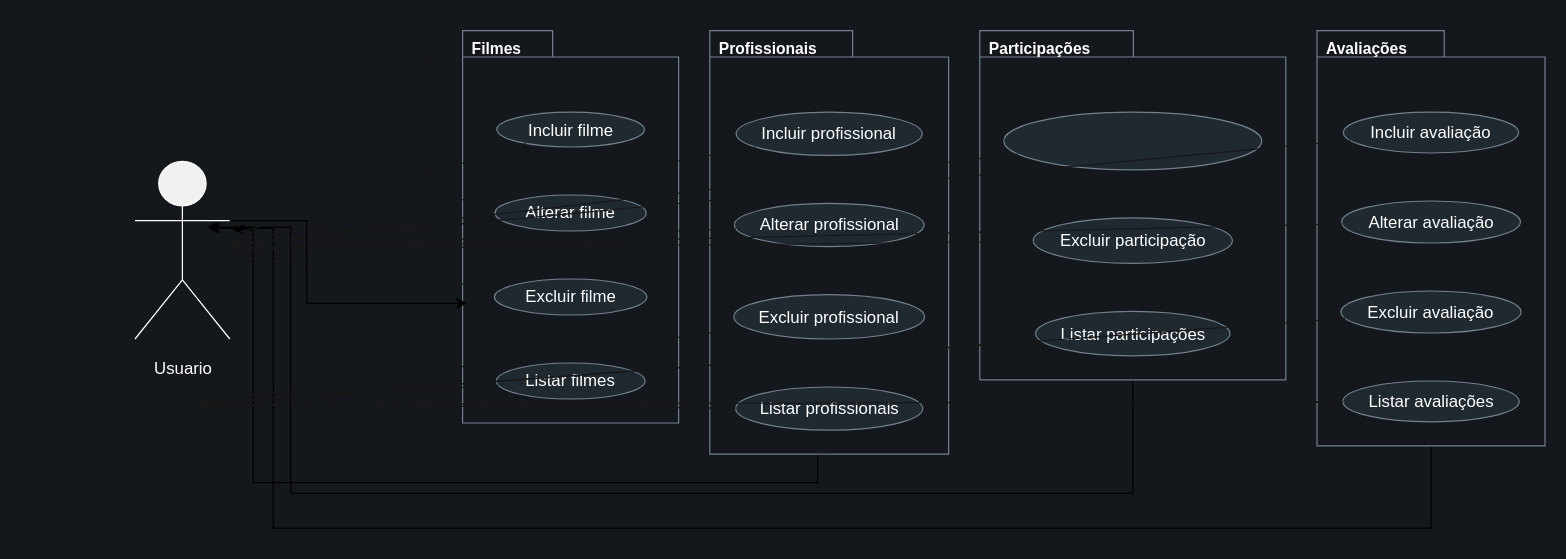
Some shapes in this 1566 by 559 pixel diagram are drawn without their labels. The centre of each missing label's shape, as x and y in pixels:
Sistema Filmora: the point at 322,143
Vincular profissional a filme: the point at 1132,140
